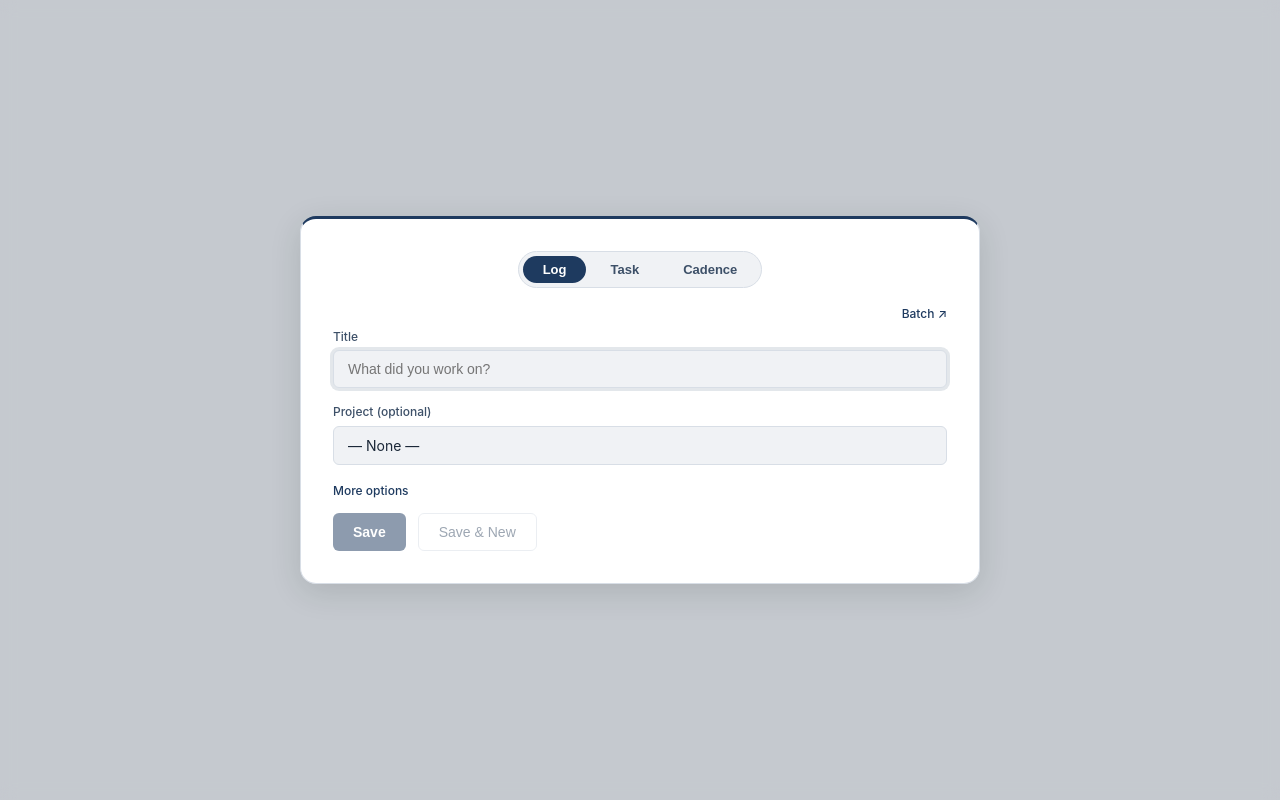
Test case: CaptureSheet — dirty-state close guard › dirty Esc opens the DiscardConfirmDialog (Requirement 11.5)
The width and height of the screenshot is (1280, 800).
// Dirty the form.
Step 1. Type "Unsaved work" into the field named "Entry title" → (640,369), box [333,350,947,388]
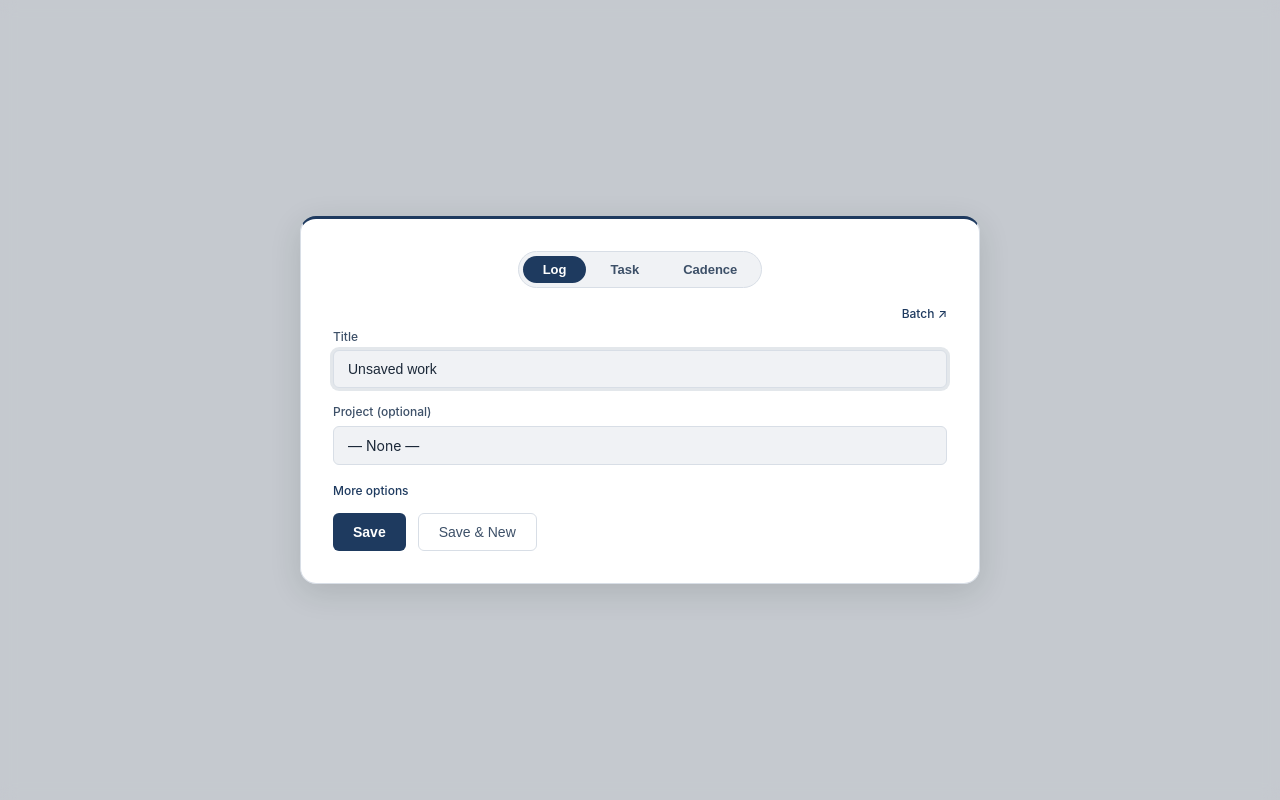
Step 2. Press Escape in the field named "Entry title", box [333,350,947,388]
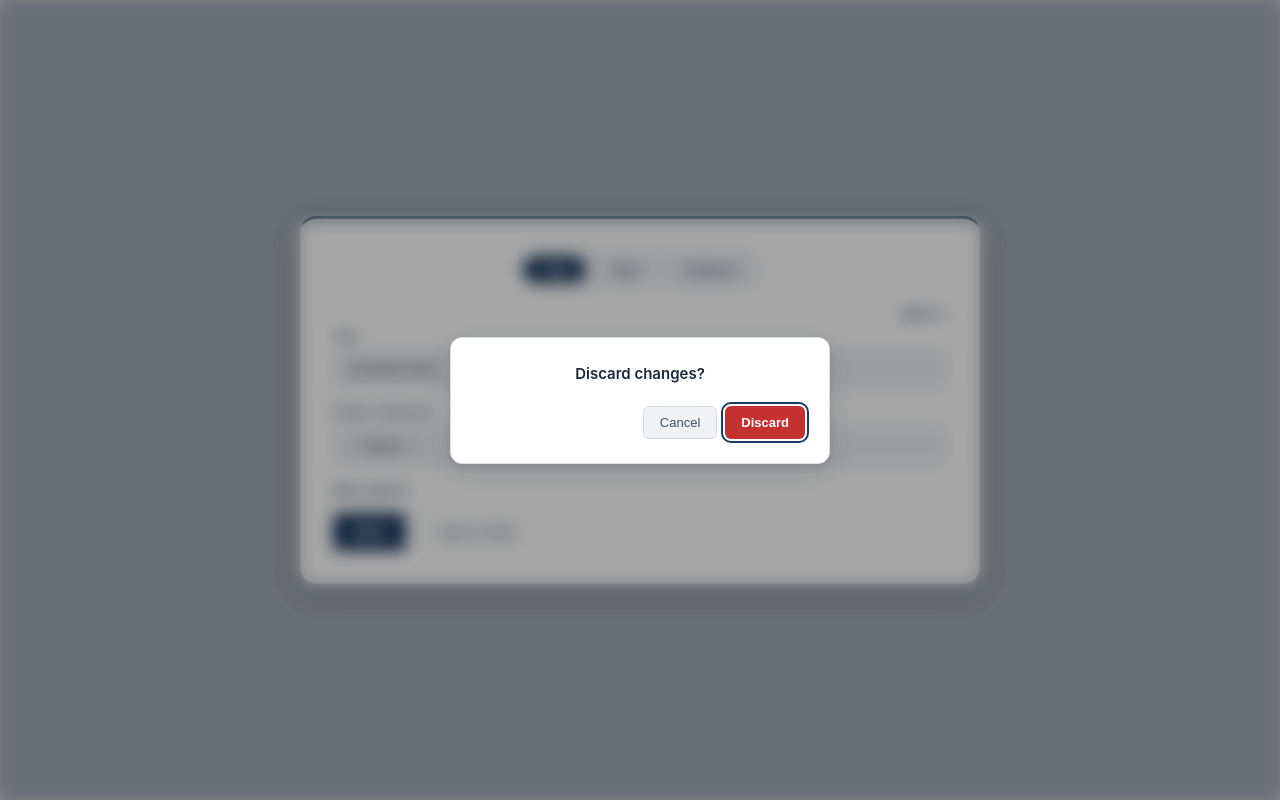
Expected: the dialog "Discard changes? Cancel Discard" is shown, [450,336,830,464]
